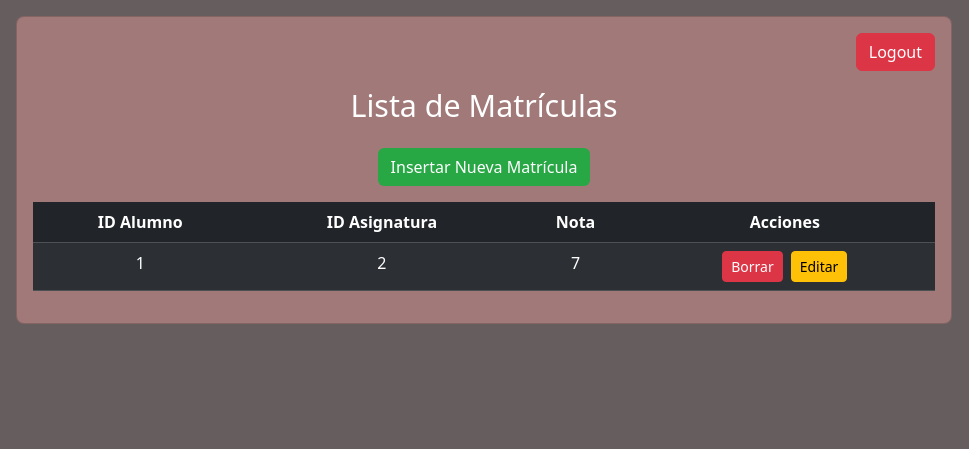
Scenario: Matriculas component › permite abrir el formulario de edición
Check: the text "7" is shown, box [516,242,635,290]
Click the button "Editar": (819, 266) [791,250,847,282]
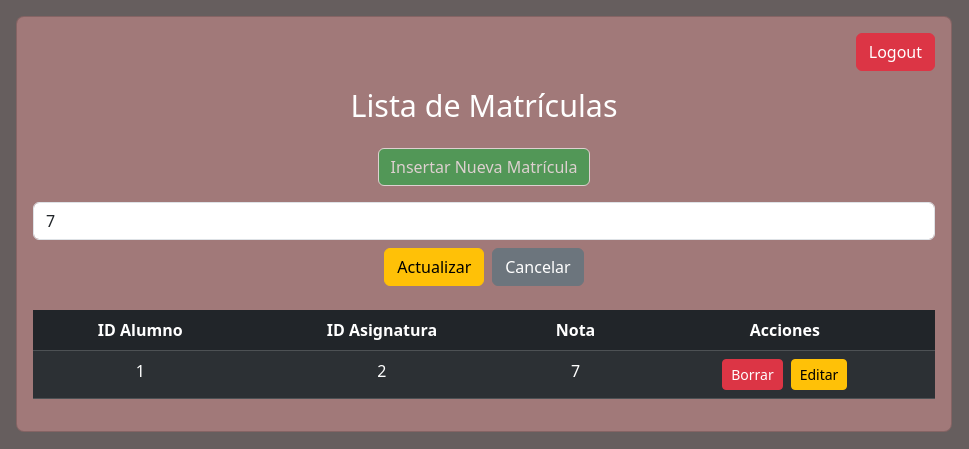
Check: the number field showing "7" is shown, box [33,202,935,240]
Check: the button "Actualizar" is shown, box [384,248,484,286]
